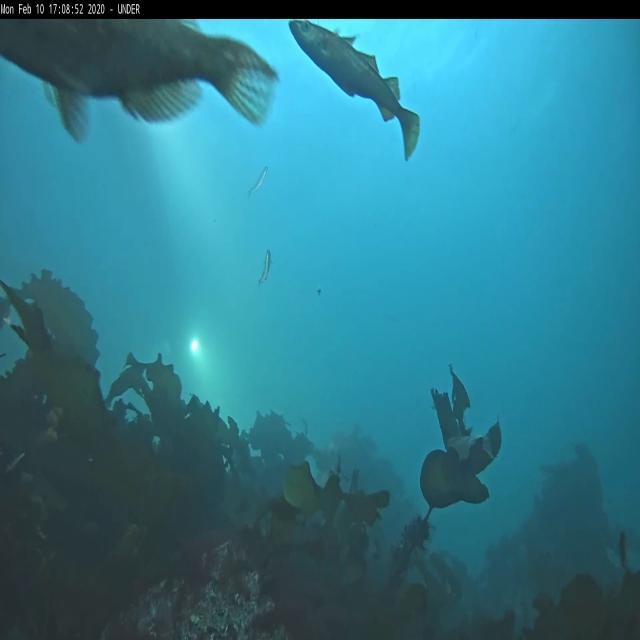fish: (1, 18, 278, 142), (288, 20, 421, 167), (248, 165, 268, 198), (258, 248, 270, 286)
